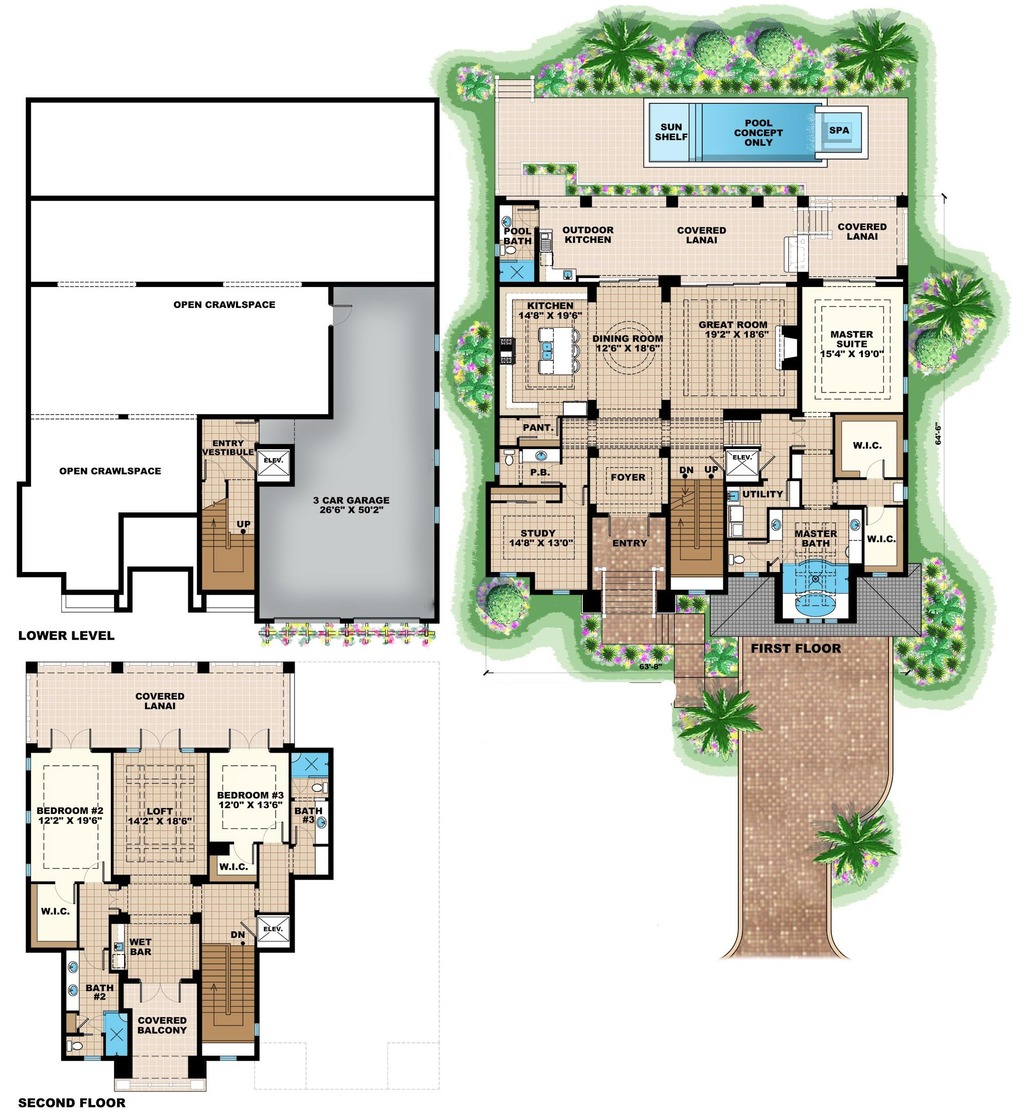door: (132, 719, 185, 750), (46, 726, 98, 757), (224, 726, 274, 750), (866, 456, 886, 480)
kitchen_bar: (532, 317, 584, 377)
stairs: (669, 473, 729, 590), (200, 940, 258, 1058), (195, 491, 259, 597)
